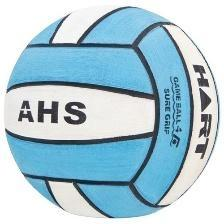Sports-Ball: (5, 6, 220, 221)
